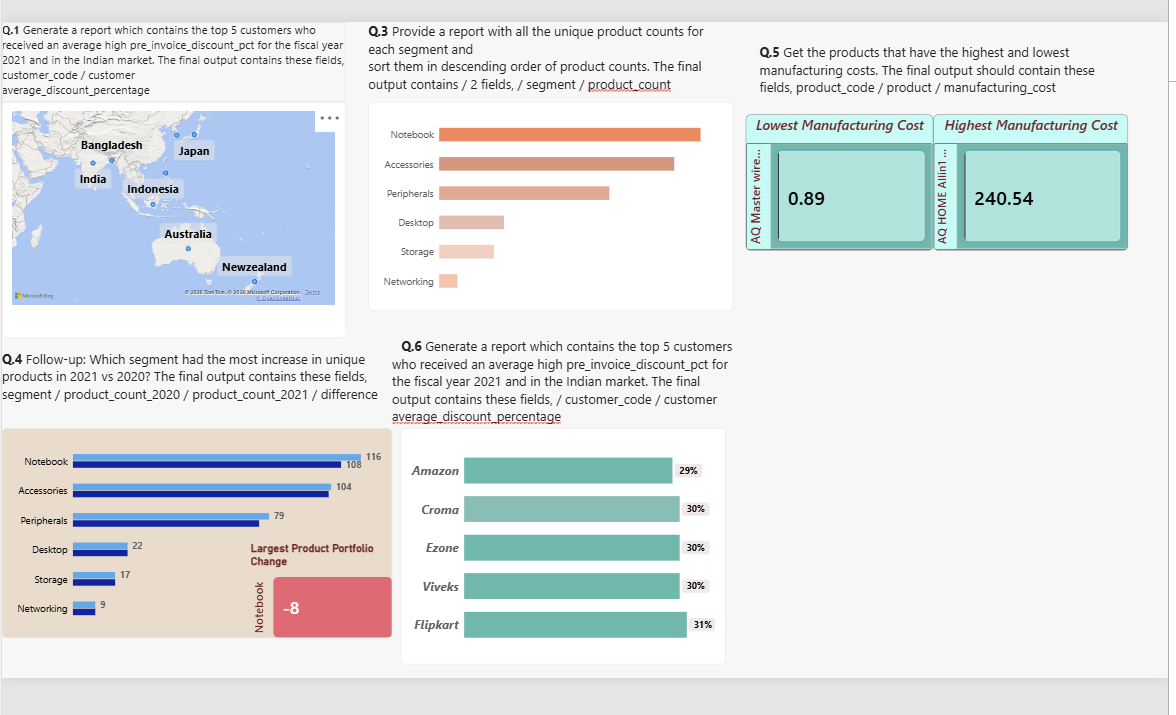

The page's visual inventory and layout, read from the dashboard file:
{"tool":"powerbi","page":{"name":"Page 1","canvas":[1920,1080],"ordinal":0},"visuals":[{"type":"map","fields":{"Category":["Q1.market"]},"box":[0,131.7,566,389],"z":0},{"type":"barChart","fields":{"Category":["Q3.segment"],"Y":["Sum(Q3.Product_count)"]},"box":[603.1,131.7,601,343.7],"z":1000},{"type":"clusteredBarChart","fields":{"Category":["Q4.segment"],"Y":["Sum(Q4.unique_products_2020)","Sum(Q4.unique_products_2021)"]},"box":[0,669,642.2,345.8],"z":2000},{"type":"cardVisual","title":"Largest Product Portfolio Change","fields":{"Data":["Sum(Q4.Difference)"],"Rows":["Q4.segment"]},"box":[409.6,856.3,232.6,158.5],"z":3000},{"type":"cardVisual","title":"Highest Manufacturing Cost","fields":{"Data":["Sum(Q5.manufacturing_cost)"],"Rows":["Q5.Product"]},"box":[1533.5,152.3,321.1,224.4],"z":4000},{"type":"cardVisual","title":"Lowest Manufacturing Cost","fields":{"Data":["Sum(Q5.manufacturing_cost)"],"Rows":["Q5.Product"]},"box":[1224.7,152.3,308.7,224.4],"z":5000},{"type":"clusteredBarChart","fields":{"Category":["Q6.customer"],"Y":["Sum(Q6.average_discount_percentage)"]},"box":[656.6,669,535.2,389],"z":6000},{"type":"textbox","box":[0,0,566,131.7],"z":6001},{"type":"textbox","box":[0,539.3,642.2,96.7],"z":6002},{"type":"textbox","box":[603.1,0,561.9,131.7],"z":6003},{"type":"textbox","box":[642.2,518.7,562,150],"z":6004},{"type":"textbox","box":[1247.3,35,572.2,117.3],"z":6005}]}

Visuals, with their boxes on the page's 1920x1080 design canvas (x1, y1, x2, y2). These are canvas units, not pixel positions in the 1176x715 screenshot, which may show the page scaled, cropped or inside an application window:
map - Q1.market: 0,132,566,521
barChart - Q3.segment x Sum(Q3.Product_count): 603,132,1204,475
clusteredBarChart - Q4.segment x Sum(Q4.unique_products_2020): 0,669,642,1015
"Largest Product Portfolio Change" cardVisual: 410,856,642,1015
"Highest Manufacturing Cost" cardVisual: 1534,152,1855,377
"Lowest Manufacturing Cost" cardVisual: 1225,152,1533,377
clusteredBarChart - Q6.customer x Sum(Q6.average_discount_percentage): 657,669,1192,1058
textbox: 0,0,566,132
textbox: 0,539,642,636
textbox: 603,0,1165,132
textbox: 642,519,1204,669
textbox: 1247,35,1820,152
